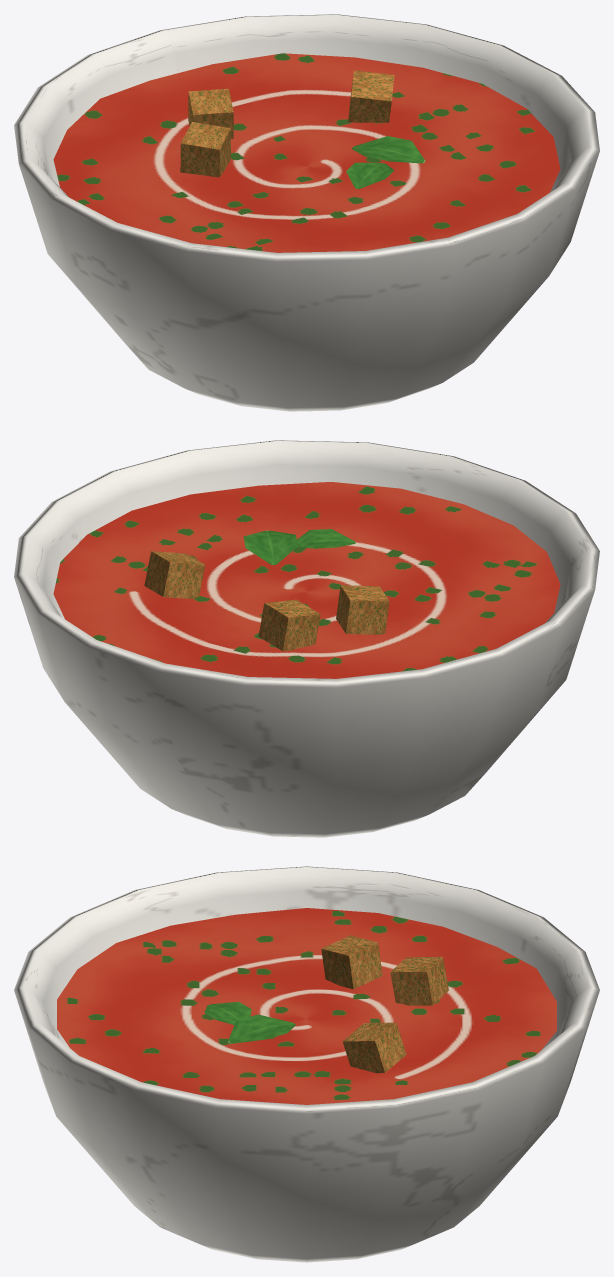
The model's file is tomatosoup.obj.
3 views of the same model, one above another, from view 1: azimuth 30°, elevation 25°; view 2: azimuth 150°, elevation 25°; view 3: azimuth 270°, elevation 25° (orthographic).
Parts seen in each view (by area): view 1: tomatosoup_0_surface; view 2: tomatosoup_0_surface; view 3: tomatosoup_0_surface.
Boxes of the visible parts, left/top/right/bottom form: tomatosoup_0_surface: left=14, top=14, right=599, bottom=411; tomatosoup_0_surface: left=14, top=440, right=599, bottom=837; tomatosoup_0_surface: left=14, top=866, right=599, bottom=1262.
Bounding box in the file's own units: 0.26 × 0.106 × 0.26.
Materials: 1 (1 with a texture image).
